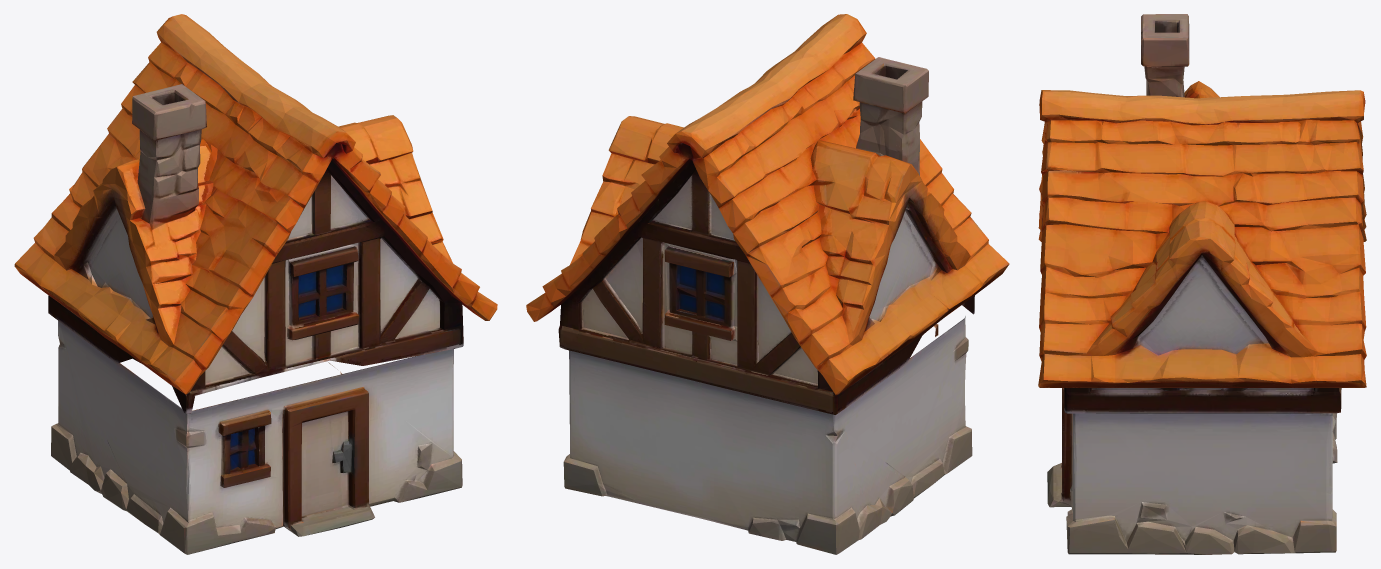
Rendered from cottage_house.glb.
The picture shows the model from 3 angles, left to right: view 1: azimuth 30°, elevation 25°; view 2: azimuth 150°, elevation 25°; view 3: azimuth 270°, elevation 25°; orthographic projection.
Bounding box in the file's own units: 1.61 × 1.97 × 1.43.
1 material, 1 textured.
